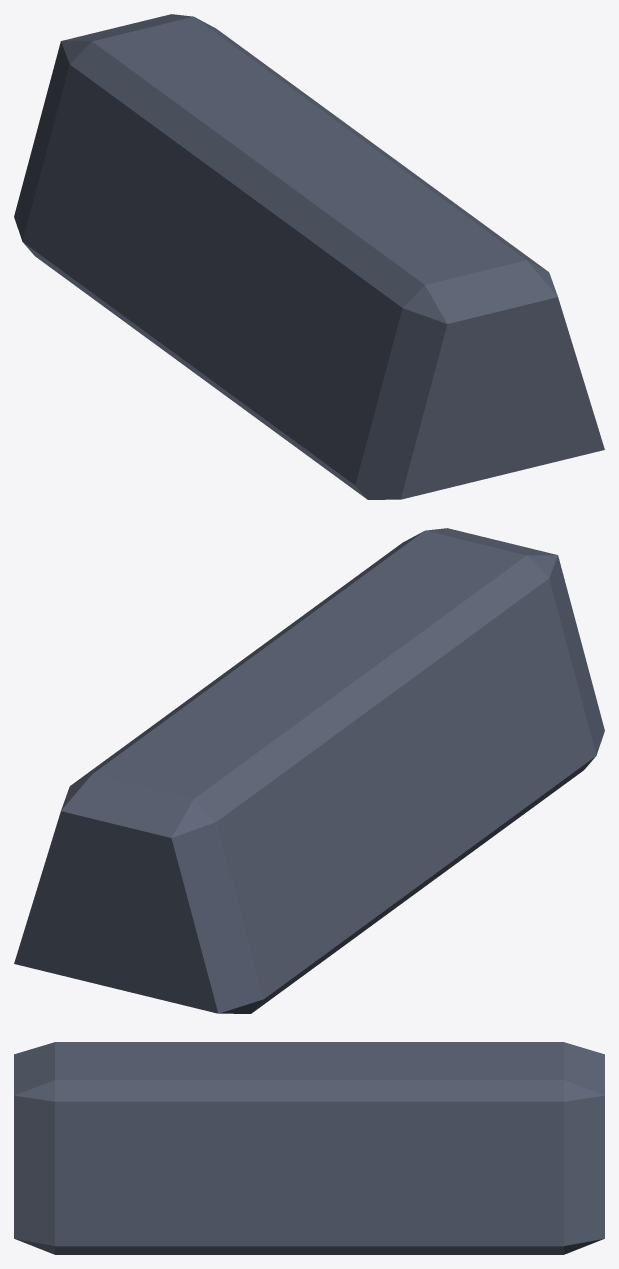
Rendered from ingot.glb.
3 views of the same model, one above another, from view 1: azimuth 30°, elevation 25°; view 2: azimuth 150°, elevation 25°; view 3: azimuth 270°, elevation 25° (orthographic). The views are drawn at different scales.
Visible parts, largest first — view 1: ingot-col; view 2: ingot-col; view 3: ingot-col.
Boxes of the visible parts, x1,y1,x2,y2 form: ingot-col: (14,14,604,499); ingot-col: (14,528,604,1013); ingot-col: (14,1042,604,1254).
Size of the model in its own units: 0.1265 by 0.1006 by 0.351.
